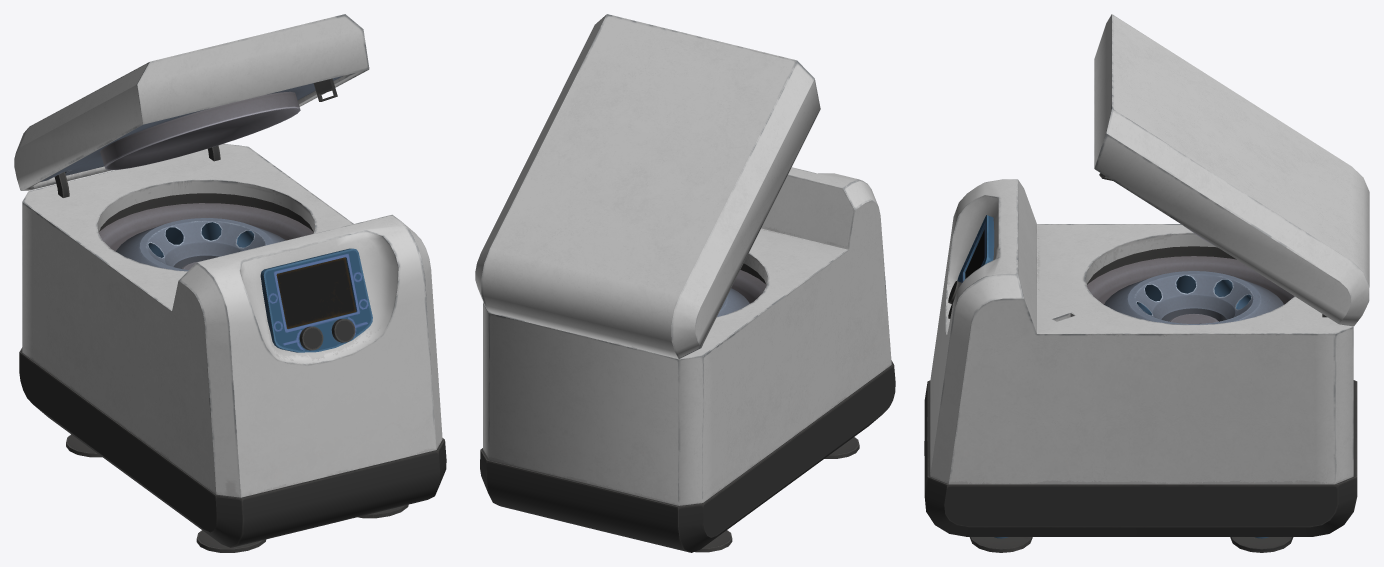
The model's file is 离心机.glb.
The picture shows the model from 3 angles, left to right: view 1: azimuth 30°, elevation 25°; view 2: azimuth 150°, elevation 25°; view 3: azimuth 270°, elevation 25°; orthographic projection. The views are drawn at different scales.
Parts seen in each view (by area): view 1: 离心机, 离心机.001, 离心机.002; view 2: 离心机, 离心机.001; view 3: 离心机, 离心机.001, 离心机.002.
Boxes of the visible parts, x1,y1,x2,y2 form: 离心机: (19, 143, 446, 552); 离心机.001: (14, 14, 369, 197); 离心机.002: (116, 218, 285, 271); 离心机: (480, 167, 895, 552); 离心机.001: (475, 14, 820, 359); 离心机: (924, 179, 1357, 552); 离心机.001: (1094, 14, 1369, 326); 离心机.002: (1104, 271, 1283, 324).
Size of the model in its own units: 0.392 by 0.7228 by 0.6602.
1 material, 1 textured.
